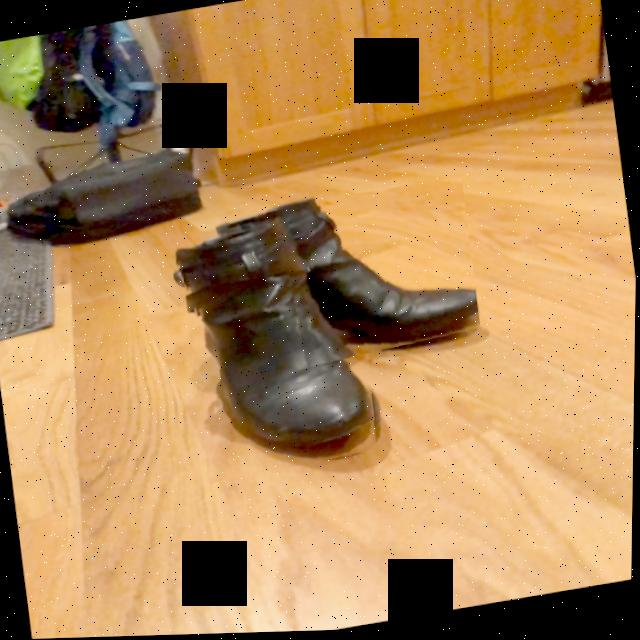shoe: (187, 247, 378, 464), (279, 203, 480, 348)
